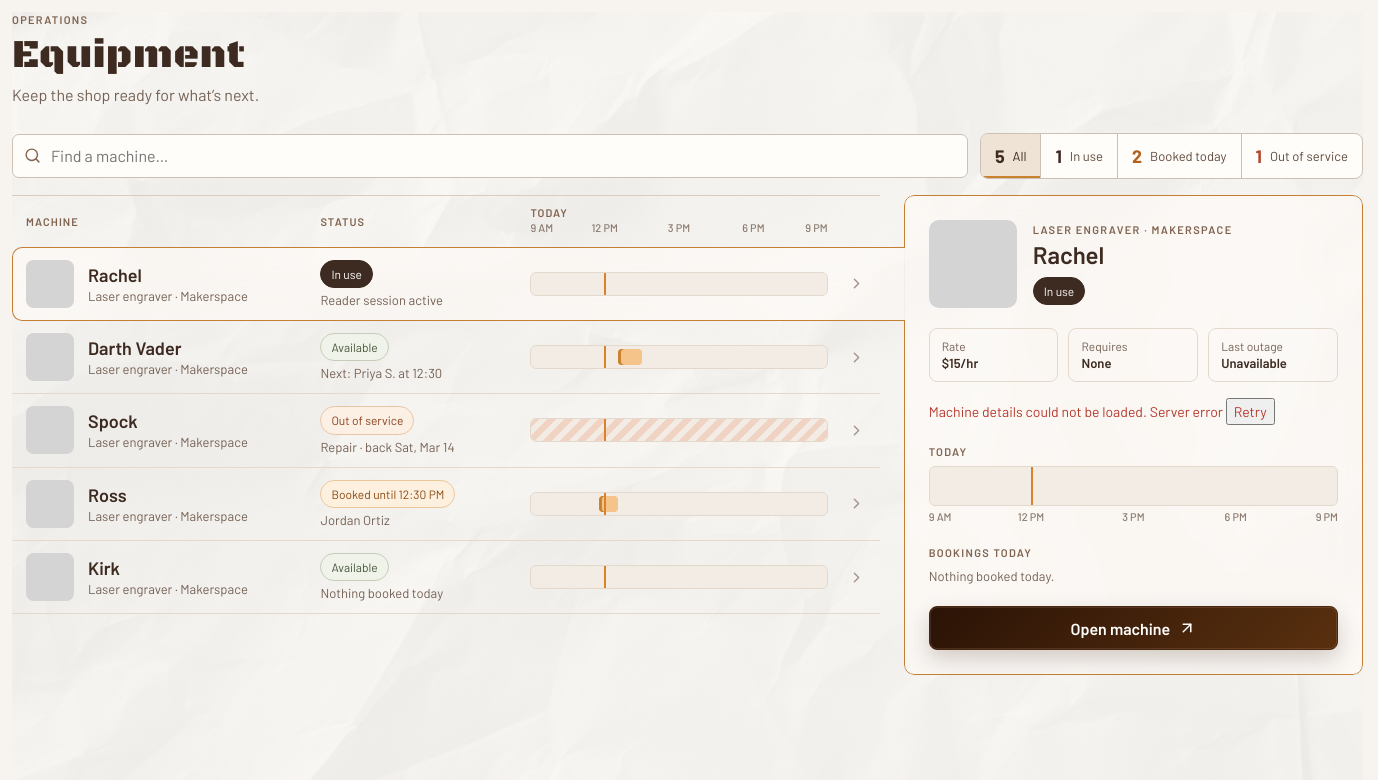
Test: a machine panel whose details fail to load says so and offers a retry
Expected: the text "Machine details could not be loaded. Server error Retry" is shown, [929,398,1275,424]
Expected: the text "Unavailable" is shown, [1221,354,1287,370]
Click the button "Retry" at point(1250, 411), box [1226,398,1275,424]
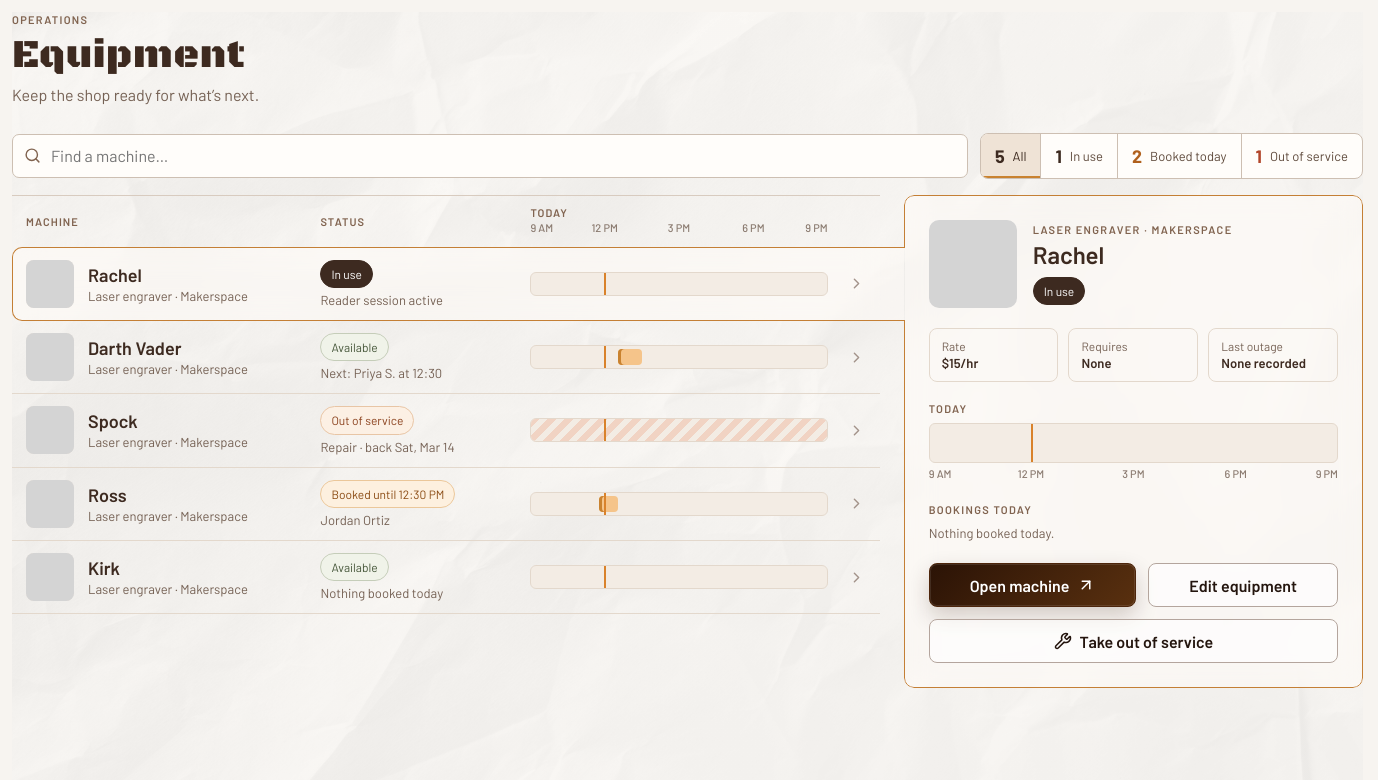
Result: the link "Take out of service" is shown at [929,619,1338,663]
Result: the text "None recorded" is shown at [1221,354,1306,370]
Result: the text "could not be loaded" is gone
